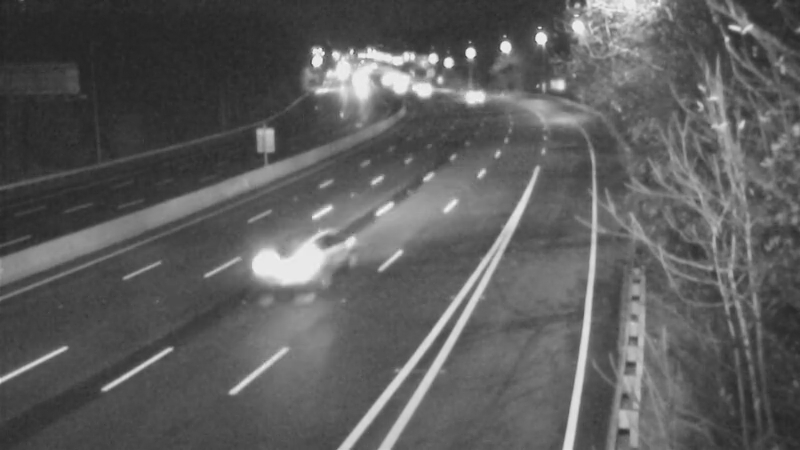vehicle: (247, 233, 327, 313), (397, 65, 447, 115), (439, 71, 489, 121)
